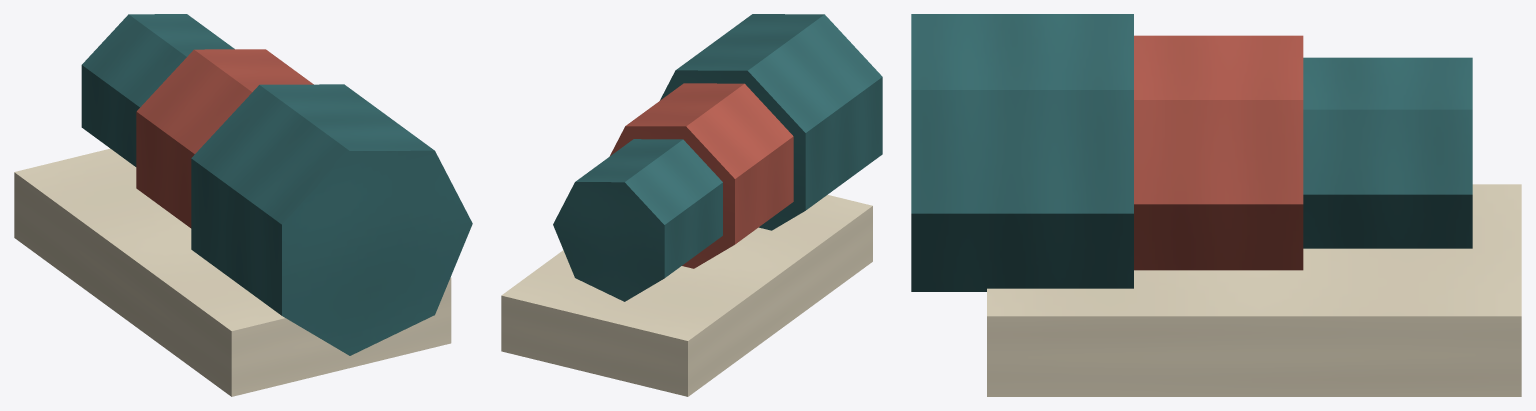
File: atlas100-s036-a05.lod1.glb
3 views of the same model, side by side, from view 1: azimuth 30°, elevation 25°; view 2: azimuth 150°, elevation 25°; view 3: azimuth 270°, elevation 25° (orthographic). The views are drawn at different scales.
Parts seen in each view (by area): view 1: atlas100-s036-a05:part-002, atlas100-s036-a05:part-004, atlas100-s036-a05:part-001, atlas100-s036-a05:part-000; view 2: atlas100-s036-a05:part-004, atlas100-s036-a05:part-002, atlas100-s036-a05:part-000, atlas100-s036-a05:part-001; view 3: atlas100-s036-a05:part-004, atlas100-s036-a05:part-002, atlas100-s036-a05:part-001, atlas100-s036-a05:part-000.
Boxes of the visible parts, bbox=[...] form: atlas100-s036-a05:part-002: bbox=[191, 84, 472, 355]; atlas100-s036-a05:part-004: bbox=[14, 148, 451, 396]; atlas100-s036-a05:part-001: bbox=[136, 49, 313, 228]; atlas100-s036-a05:part-000: bbox=[81, 14, 234, 166]; atlas100-s036-a05:part-004: bbox=[501, 194, 872, 396]; atlas100-s036-a05:part-002: bbox=[660, 14, 882, 230]; atlas100-s036-a05:part-000: bbox=[553, 139, 722, 301]; atlas100-s036-a05:part-001: bbox=[609, 83, 793, 268]; atlas100-s036-a05:part-004: bbox=[987, 184, 1521, 396]; atlas100-s036-a05:part-002: bbox=[911, 14, 1133, 291]; atlas100-s036-a05:part-001: bbox=[1134, 35, 1303, 270]; atlas100-s036-a05:part-000: bbox=[1303, 57, 1472, 248].
Size of the model in its own units: 0.3822 by 0.4106 by 0.748.
Materials: 3 (3 with a texture image).
